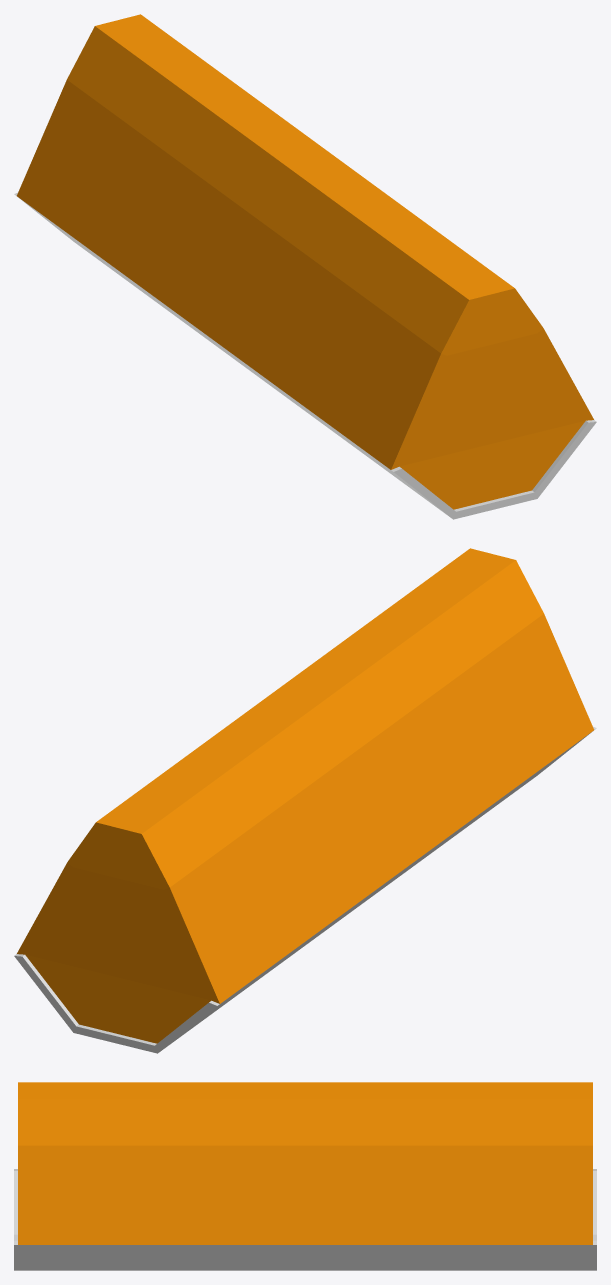
Rendered from Small Log_13.fbx.
3 views of the same model, one above another, from view 1: azimuth 30°, elevation 25°; view 2: azimuth 150°, elevation 25°; view 3: azimuth 270°, elevation 25° (orthographic). The views are drawn at different scales.
Parts seen in each view (by area): view 1: Circle.243; view 2: Circle.243; view 3: Circle.243.
Boxes of the visible parts, box(x1,y1,x2,y2) form: Circle.243: box(14, 14, 596, 519); Circle.243: box(14, 548, 596, 1053); Circle.243: box(14, 1082, 596, 1270).
Bounding box in the file's own units: 7.35 × 7.38 × 23.76.
